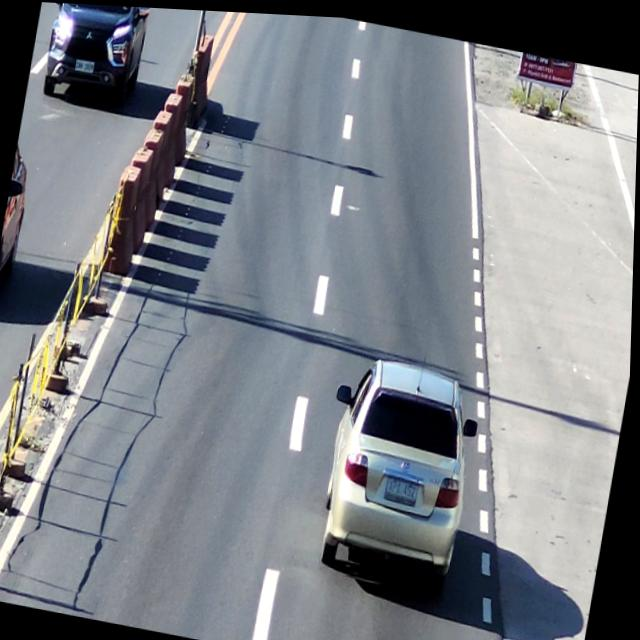Car: (305, 345, 492, 601)
License-Plate: (383, 468, 425, 507), (74, 57, 96, 75)
